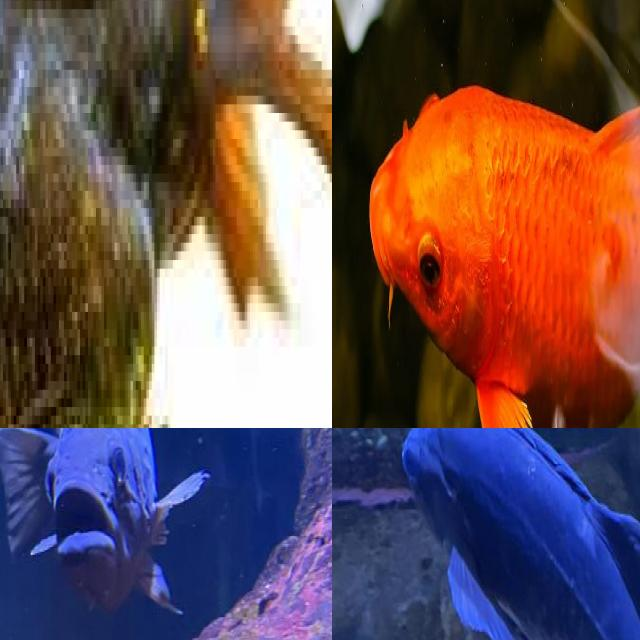fish: (0, 0, 332, 428), (428, 98, 640, 428), (394, 428, 640, 640), (2, 428, 209, 630)
